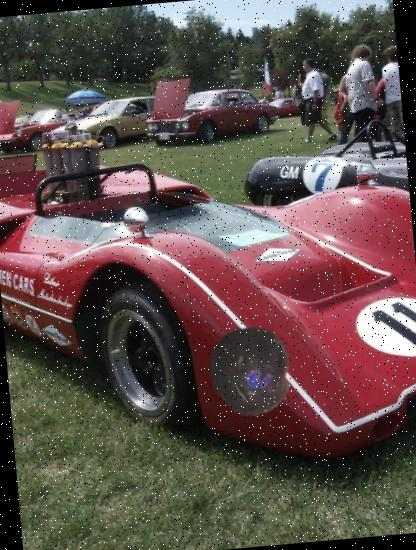Passion: (201, 322, 302, 422)
